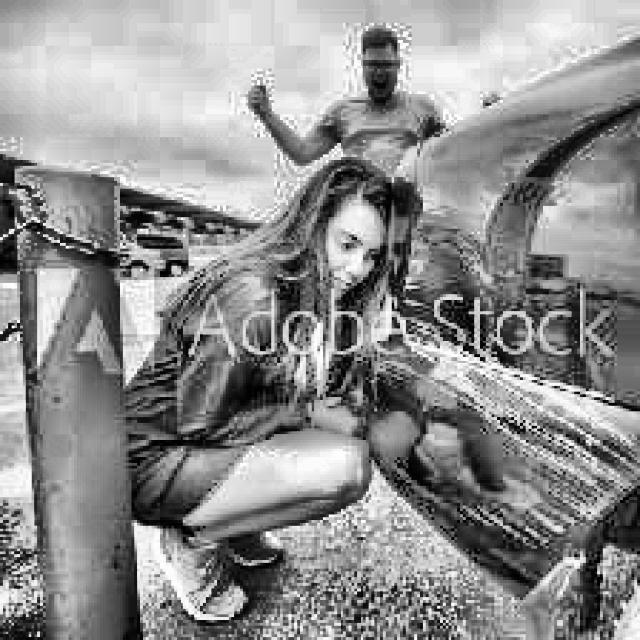bumper_scratch: (397, 321, 619, 493)
